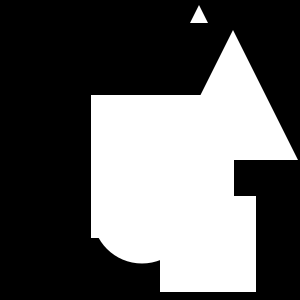circle: (91, 95, 234, 238), (160, 196, 256, 292)
rectangle: (92, 164, 192, 264)
triangle: (168, 30, 298, 160), (190, 5, 208, 23)
